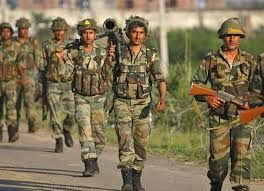gun: (184, 80, 264, 128), (60, 28, 107, 50), (100, 13, 126, 52)
uniform: (205, 43, 253, 182), (114, 43, 156, 172), (71, 39, 107, 162), (43, 35, 74, 140), (13, 30, 39, 133), (1, 37, 23, 145)
